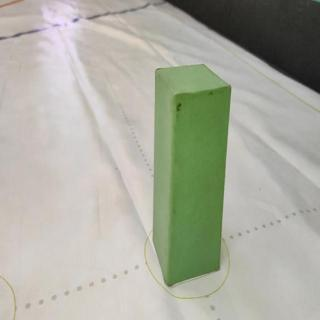greenbox: (151, 63, 232, 289)
